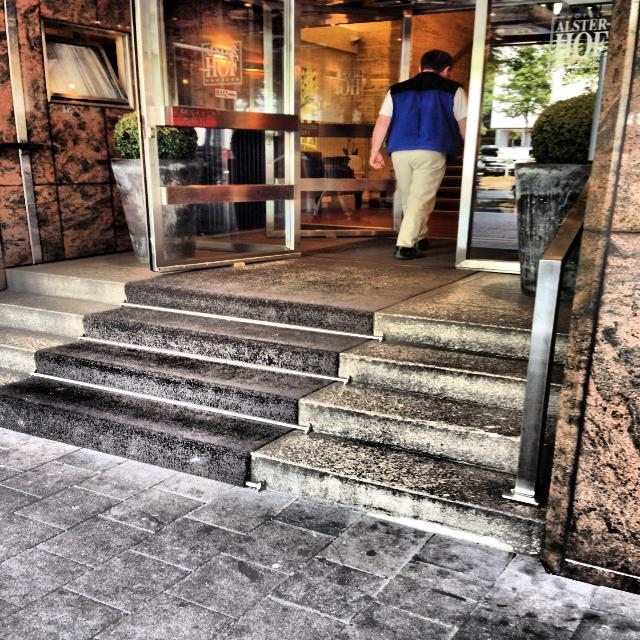escada: (2, 270, 572, 554)
